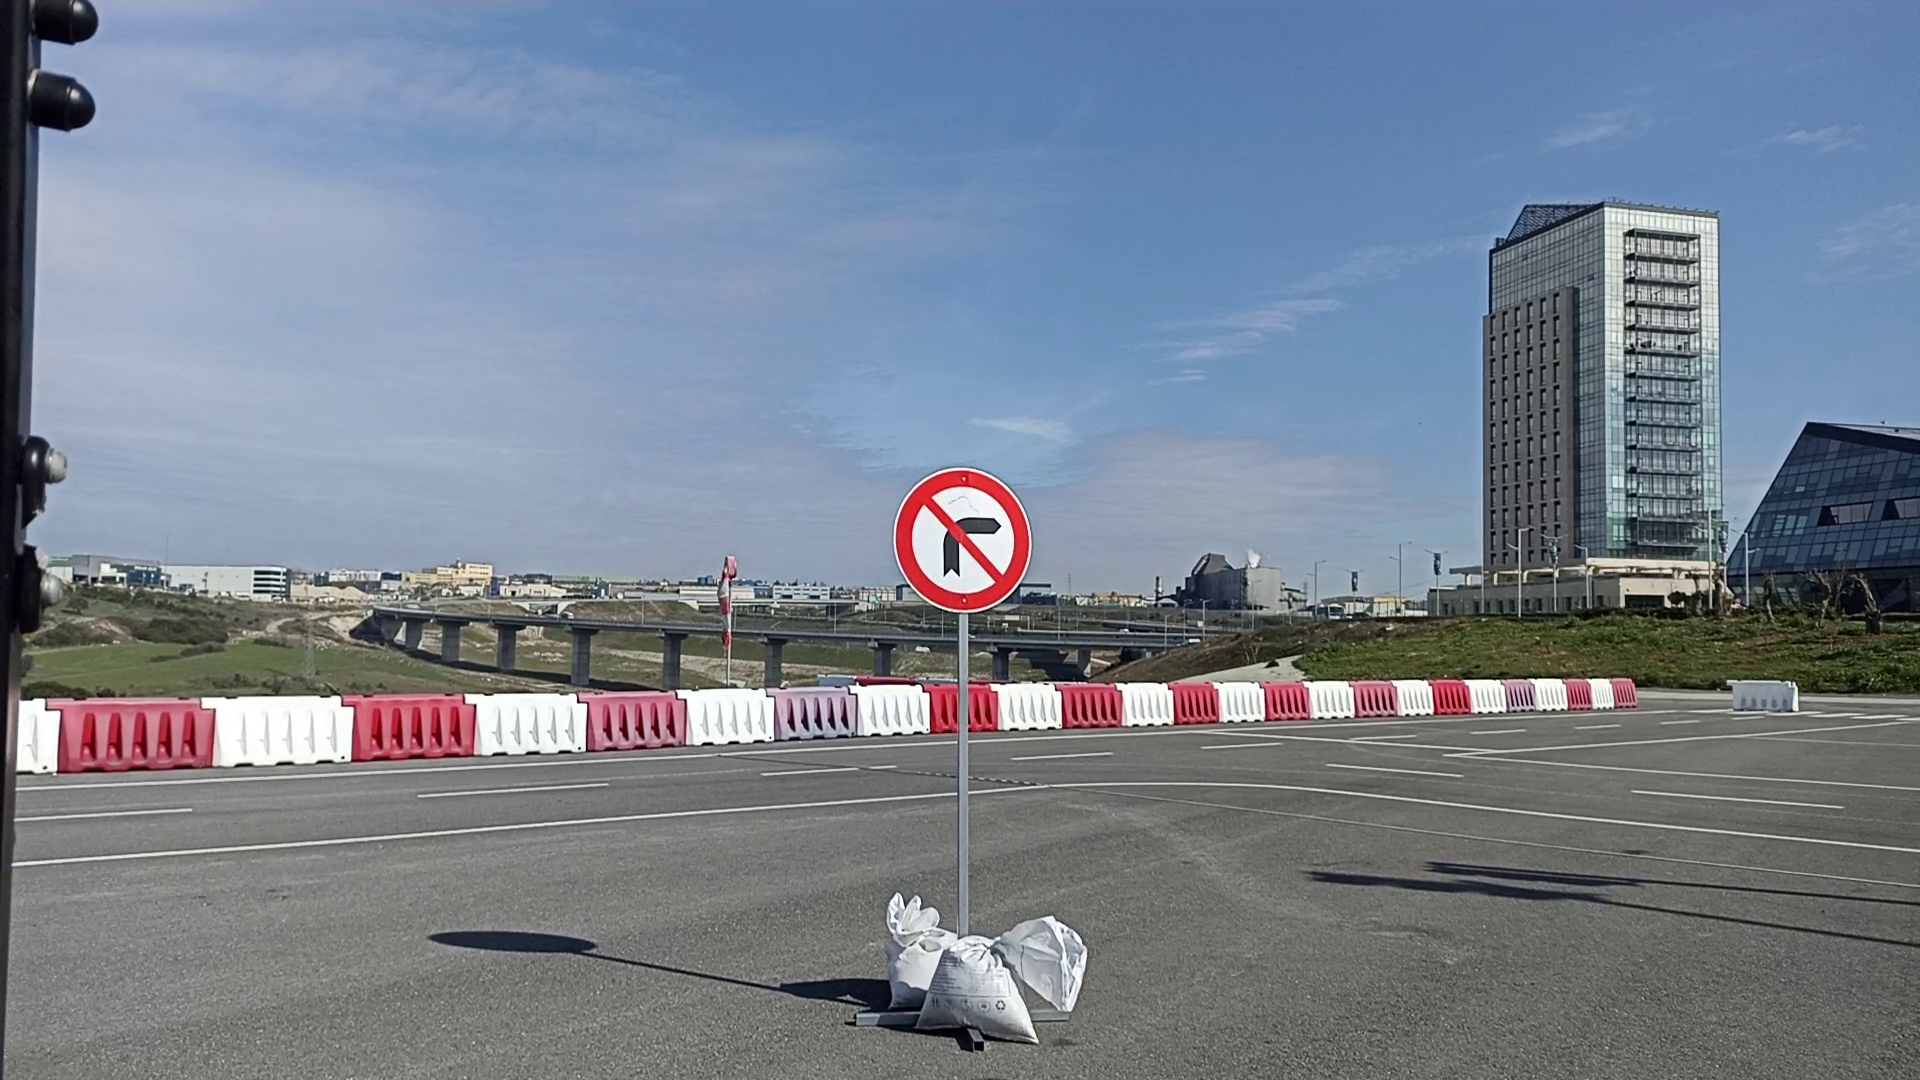noleftturn: (891, 465, 1034, 618)
